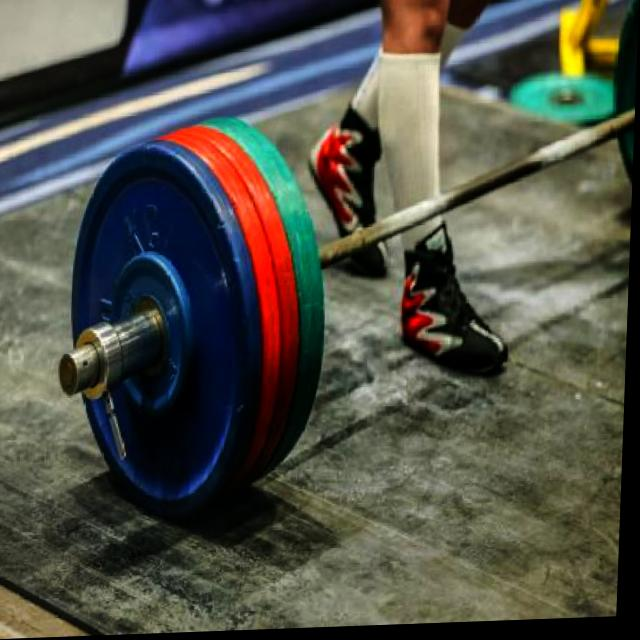barbell: (52, 133, 265, 529)
